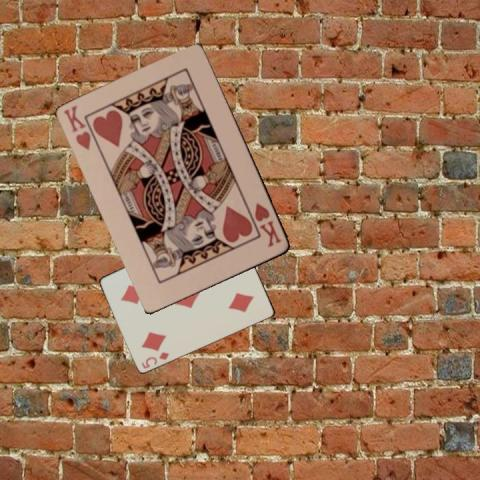5d: (138, 349, 170, 370)
Kh: (60, 102, 92, 152), (252, 200, 284, 249)
